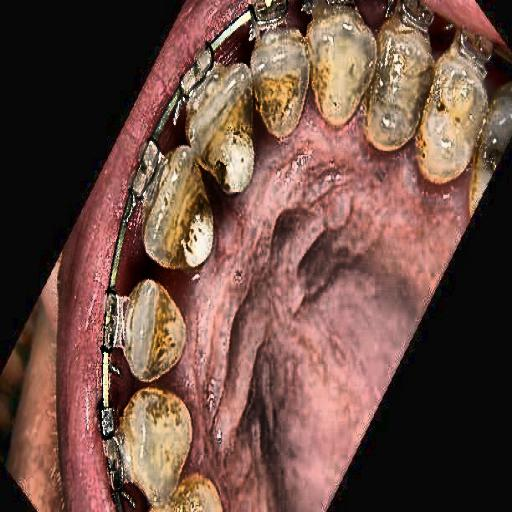Calculus: (339, 0, 504, 191), (144, 195, 242, 512), (206, 64, 328, 181)
